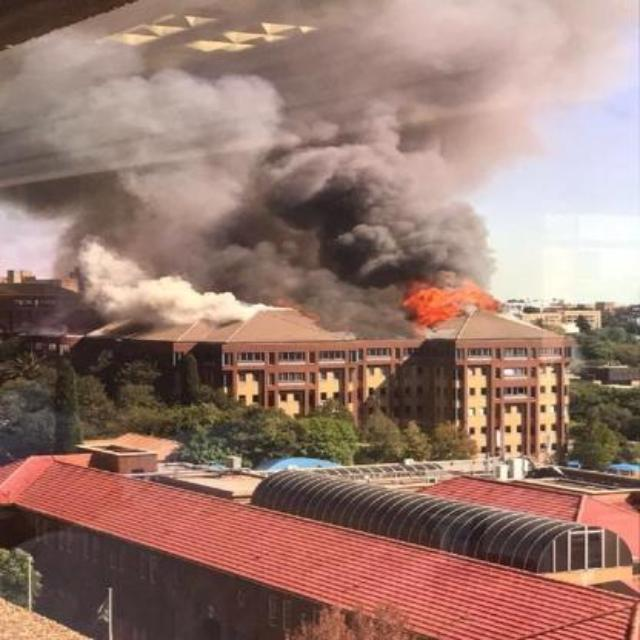Fire: (398, 276, 502, 326)
Smoke: (11, 41, 492, 279)
